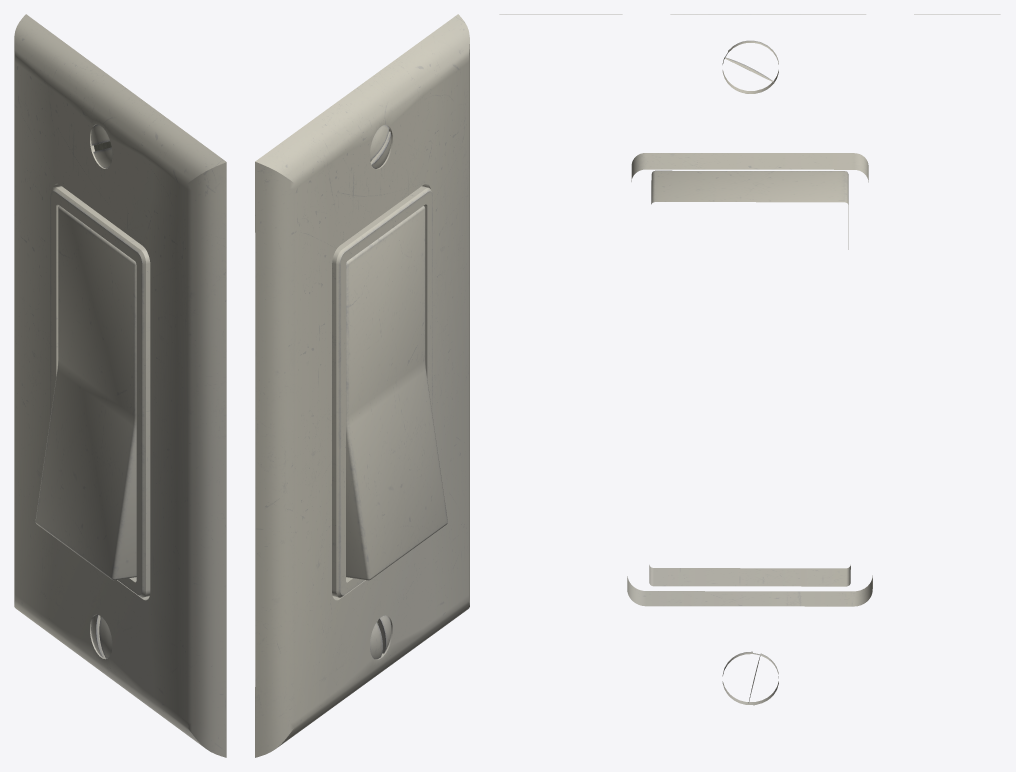
The model's file is lightswitch.glb.
3 renders of one model, left to right at view 1: azimuth 30°, elevation 25°; view 2: azimuth 150°, elevation 25°; view 3: azimuth 270°, elevation 25°, orthographic. The views are drawn at different scales.
Parts seen in each view (by area): view 1: CoverPlate.001, Switch.001, SwitchHolder.001, ScrewBottom.001, ScrewTop.001; view 2: CoverPlate.001, Switch.001, SwitchHolder.001, ScrewBottom.001, ScrewTop.001; view 3: SwitchHolder.001, Switch.001, CoverPlate.001.
Part boxes in pixels (x1,y1,x2,y2): CoverPlate.001: [14, 14, 226, 757]; Switch.001: [35, 206, 136, 580]; SwitchHolder.001: [50, 186, 150, 597]; ScrewBottom.001: [91, 614, 112, 658]; ScrewTop.001: [91, 124, 112, 168]; CoverPlate.001: [255, 14, 469, 757]; Switch.001: [346, 206, 447, 580]; SwitchHolder.001: [332, 186, 432, 597]; ScrewBottom.001: [370, 615, 391, 659]; ScrewTop.001: [370, 125, 391, 168]; SwitchHolder.001: [631, 153, 868, 586]; Switch.001: [651, 170, 848, 249]; CoverPlate.001: [499, 14, 1000, 705].
Bounding box in the file's own units: 0.0238 × 0.1767 × 0.1085.
1 material, 1 textured.
